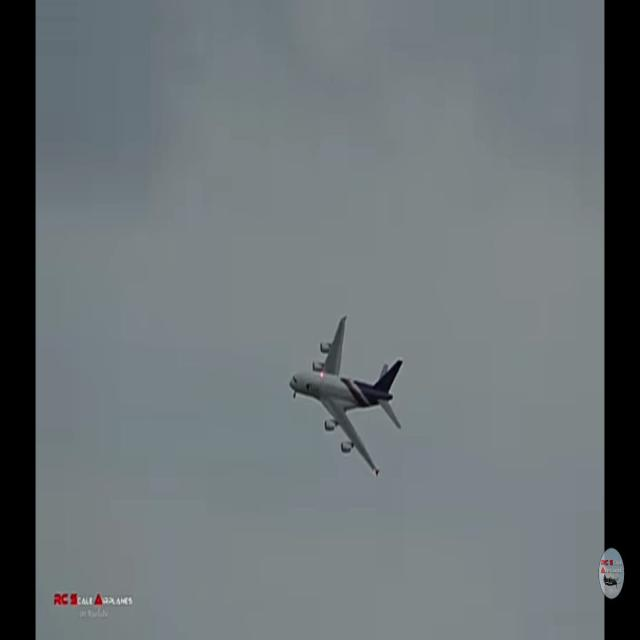iha: (320, 307, 371, 474)
